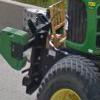Tractor: (13, 2, 100, 92)
